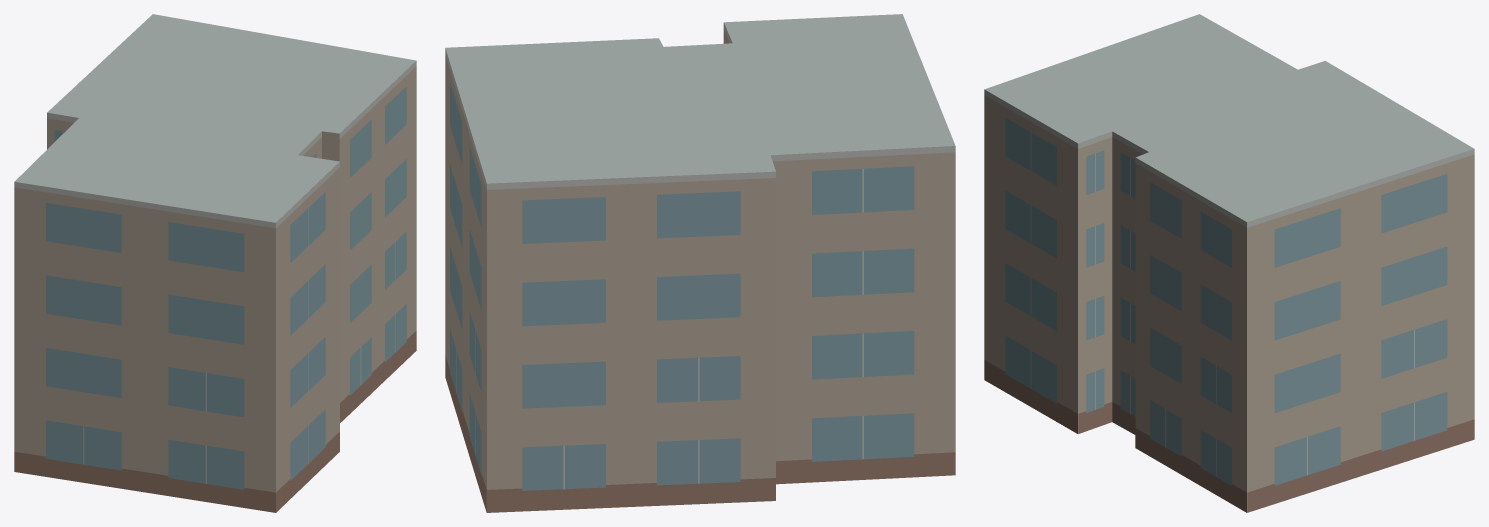
The model's file is survey-upis-32777103.glb.
The picture shows the model from 3 angles, left to right: view 1: azimuth 30°, elevation 25°; view 2: azimuth 150°, elevation 25°; view 3: azimuth 270°, elevation 25°; orthographic projection. The views are drawn at different scales.
Parts seen in each view (by area): view 1: survey-upis-32777103.tmp; view 2: survey-upis-32777103.tmp; view 3: survey-upis-32777103.tmp.
Boxes of the visible parts, x1,y1,x2,y2 form: survey-upis-32777103.tmp: [14, 14, 416, 512]; survey-upis-32777103.tmp: [445, 14, 955, 512]; survey-upis-32777103.tmp: [984, 14, 1474, 512].
Size of the model in its own units: 19.52 by 12.7 by 19.42.
